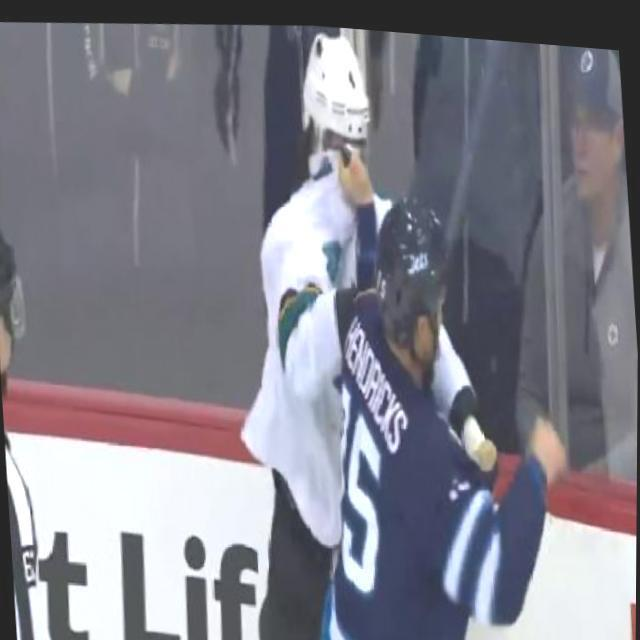fight: (202, 13, 590, 640)
